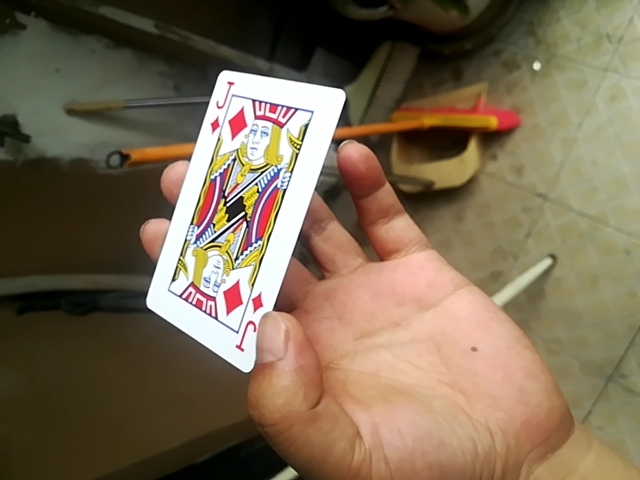fk j: (142, 63, 340, 374)
